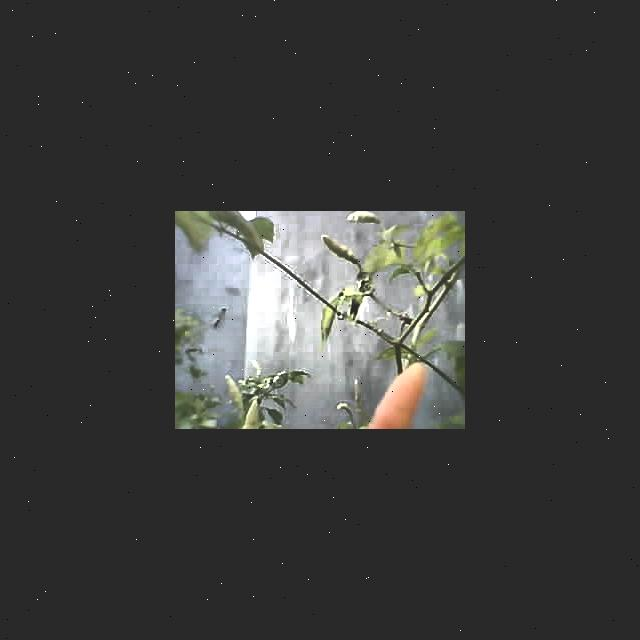Cabai: (362, 363, 425, 429)
